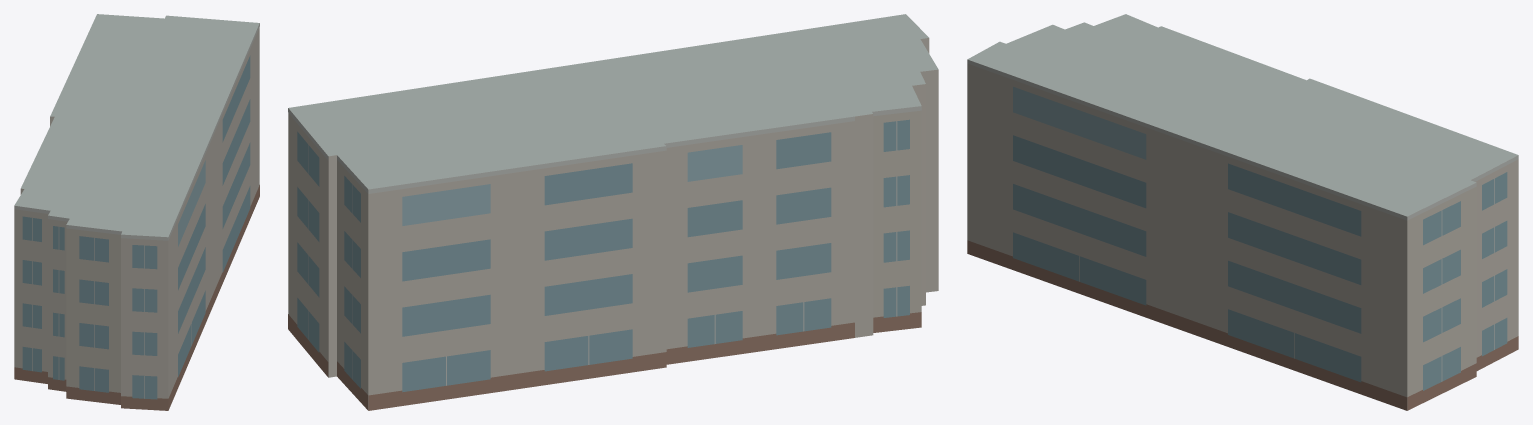
The model's file is survey-upis-33001831.glb.
3 renders of one model, left to right at view 1: azimuth 30°, elevation 25°; view 2: azimuth 150°, elevation 25°; view 3: azimuth 270°, elevation 25°, orthographic. The views are drawn at different scales.
Parts seen in each view (by area): view 1: survey-upis-33001831.tmp; view 2: survey-upis-33001831.tmp; view 3: survey-upis-33001831.tmp.
Part boxes in pixels (x1,y1,x2,y2): survey-upis-33001831.tmp: (14, 14, 259, 410); survey-upis-33001831.tmp: (288, 14, 938, 410); survey-upis-33001831.tmp: (967, 14, 1518, 410).
Size of the model in its own units: 26.63 by 11.9 by 30.62.
